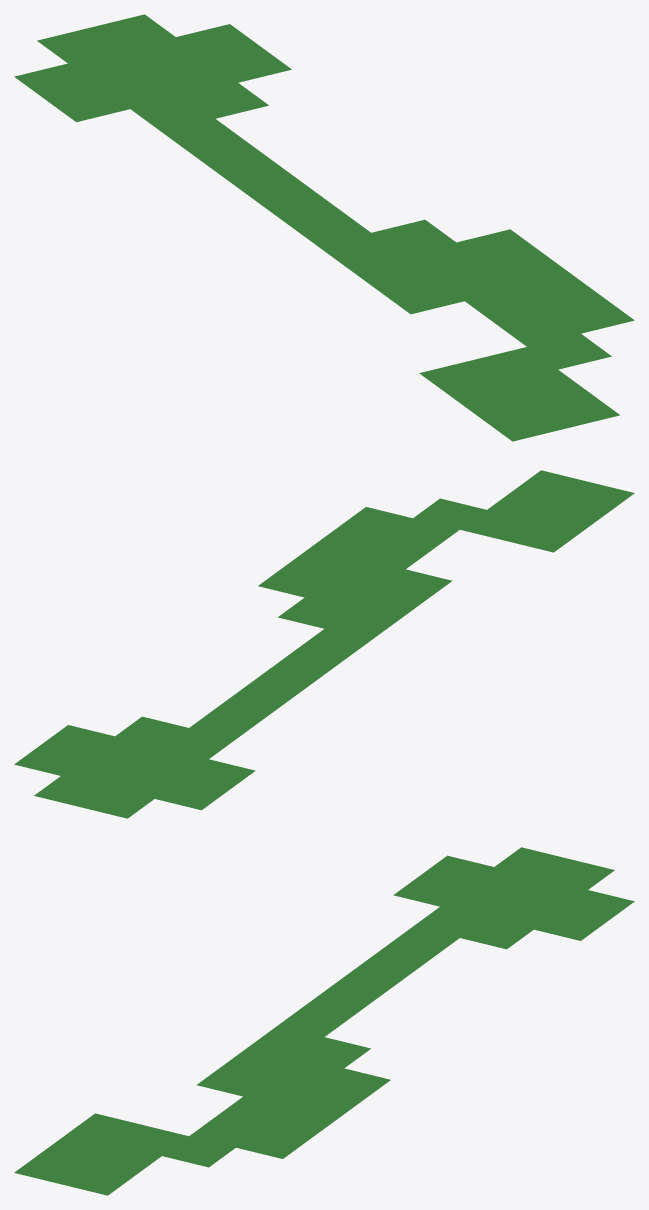
File: Isl-tutorial1-TreesArea.fbx
3 renders of one model, top to bottom at view 1: azimuth 30°, elevation 25°; view 2: azimuth 150°, elevation 25°; view 3: azimuth 330°, elevation 25°, orthographic. The views are drawn at different scales.
Parts seen in each view (by area): view 1: Isl-tutorial1-TreesArea; view 2: Isl-tutorial1-TreesArea; view 3: Isl-tutorial1-TreesArea.
Part boxes in pixels (<box>): Isl-tutorial1-TreesArea: <box>14,14,634,441</box>; Isl-tutorial1-TreesArea: <box>14,470,634,818</box>; Isl-tutorial1-TreesArea: <box>14,847,634,1195</box>.
Size of the model in its own units: 4 by 0 by 17.
